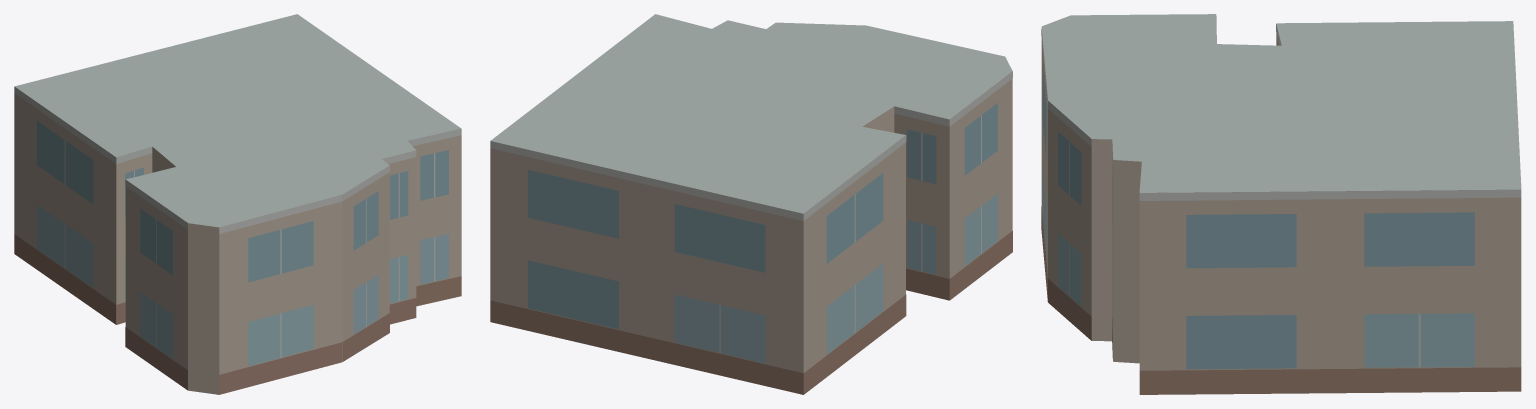
File: survey-upis-32896041.glb
The picture shows the model from 3 angles, left to right: view 1: azimuth 30°, elevation 25°; view 2: azimuth 150°, elevation 25°; view 3: azimuth 270°, elevation 25°; orthographic projection. The views are drawn at different scales.
Visible parts, largest first — view 1: survey-upis-32896041.tmp; view 2: survey-upis-32896041.tmp; view 3: survey-upis-32896041.tmp.
Part boxes in pixels (box(x1,y1,x2,y2)): survey-upis-32896041.tmp: box(14, 14, 461, 394); survey-upis-32896041.tmp: box(490, 14, 1012, 394); survey-upis-32896041.tmp: box(1041, 14, 1521, 394).
Bounding box in the file's own units: 11.6 × 6.1 × 13.15.
